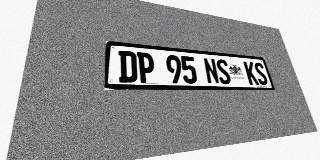5: (180, 56, 198, 84)
9: (165, 54, 184, 83)
D: (118, 50, 138, 83)
K: (243, 61, 259, 85)
N: (203, 58, 220, 84)
P: (137, 52, 156, 83)
S: (215, 59, 232, 84), (253, 62, 269, 85)
